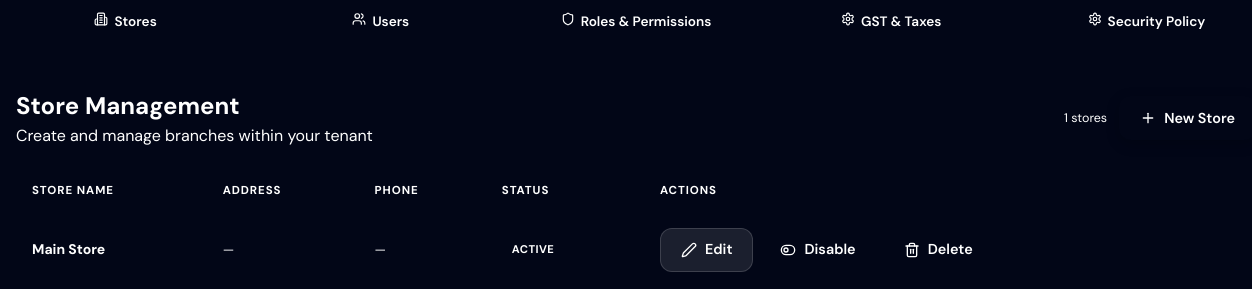
Test: AdminPage user lock controls › unlocks a locked user through the unlock endpoint
Later steps or results of the test are not shown.
Click the button "Users": [381, 22] box top-left (255, 4), bottom-right (506, 40)
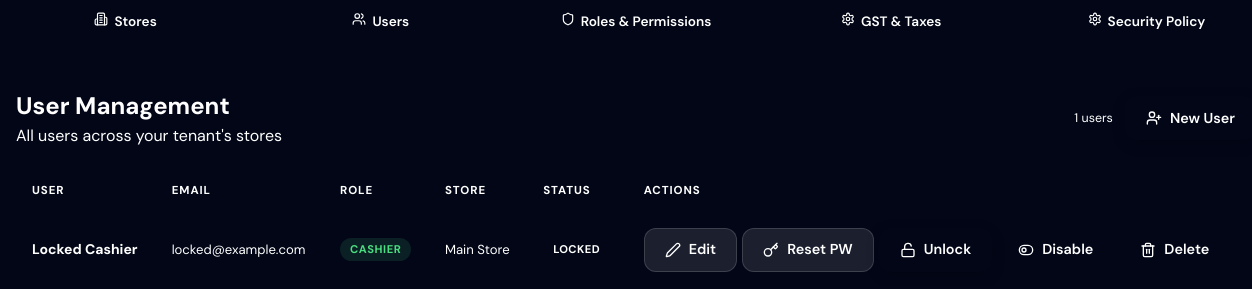
Expected: the button "Unlock" is shown, top-left (879, 228), bottom-right (992, 272)
